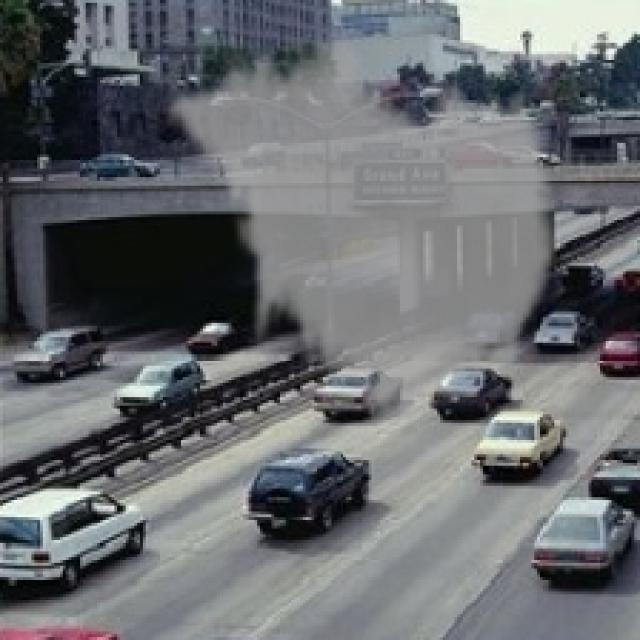smoke: (166, 23, 563, 431)
